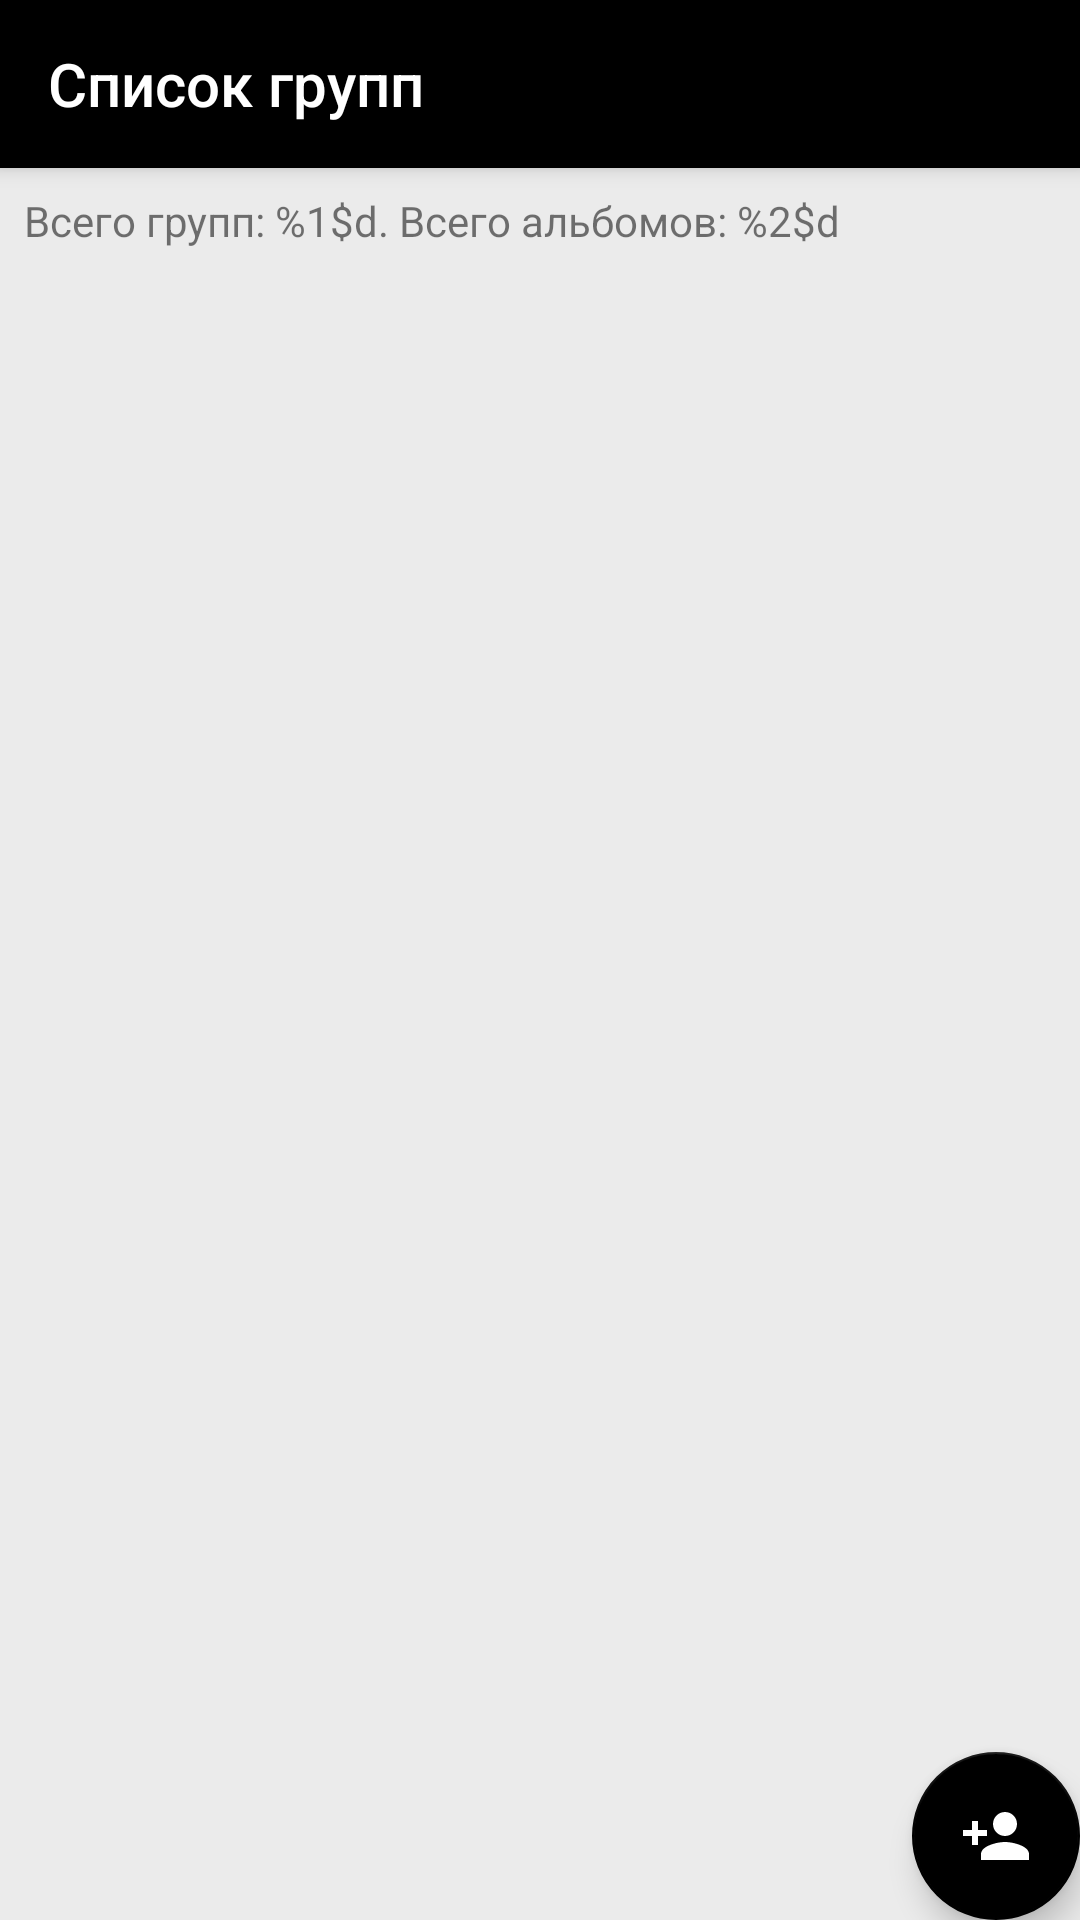

Icon bounding boxes for this 1080*1920 phone screenshot, format (x1, y1, x2, y2):
Добавить группу: (912, 1752, 1080, 1920)
